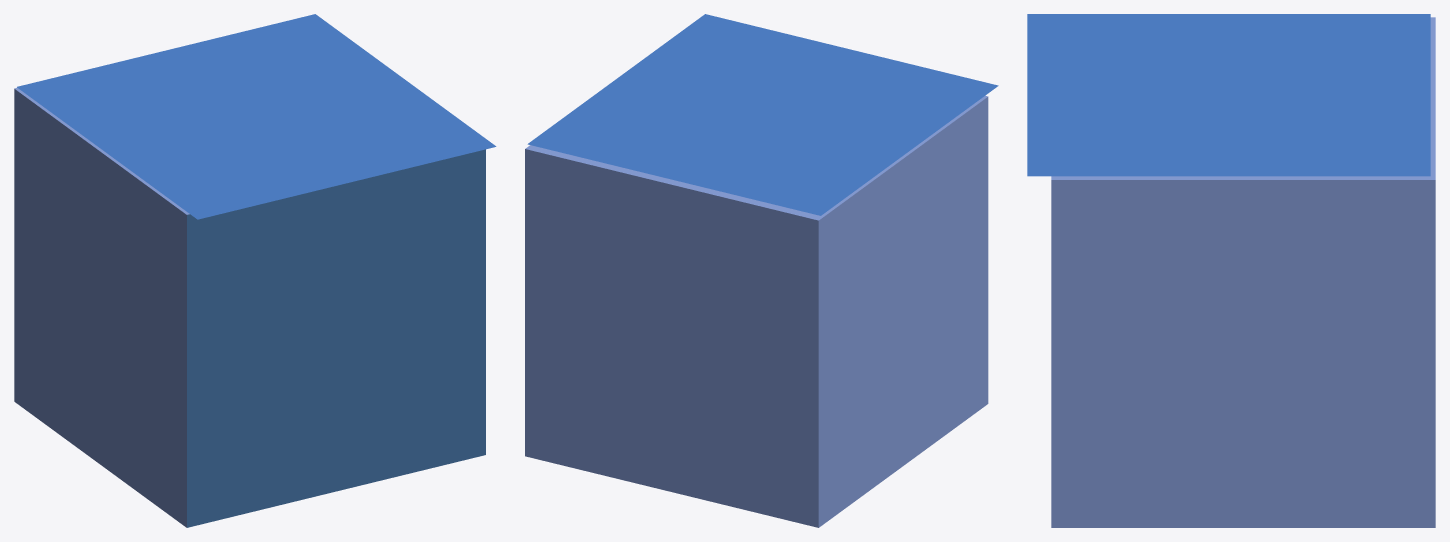
3 renders of one model, left to right at view 1: azimuth 30°, elevation 25°; view 2: azimuth 150°, elevation 25°; view 3: azimuth 270°, elevation 25°, orthographic. The views are drawn at different scales.
Parts seen in each view (by area): view 1: Cube, Plane; view 2: Cube, Plane; view 3: Cube, Plane.
Boxes of the visible parts, <box> form: Cube: <box>14,87,485,527</box>; Plane: <box>17,14,496,219</box>; Cube: <box>525,95,988,527</box>; Plane: <box>527,14,998,215</box>; Cube: <box>1051,17,1435,527</box>; Plane: <box>1027,14,1430,176</box>.
Bounding box in the file's own units: 2 × 2.02 × 2.12.
